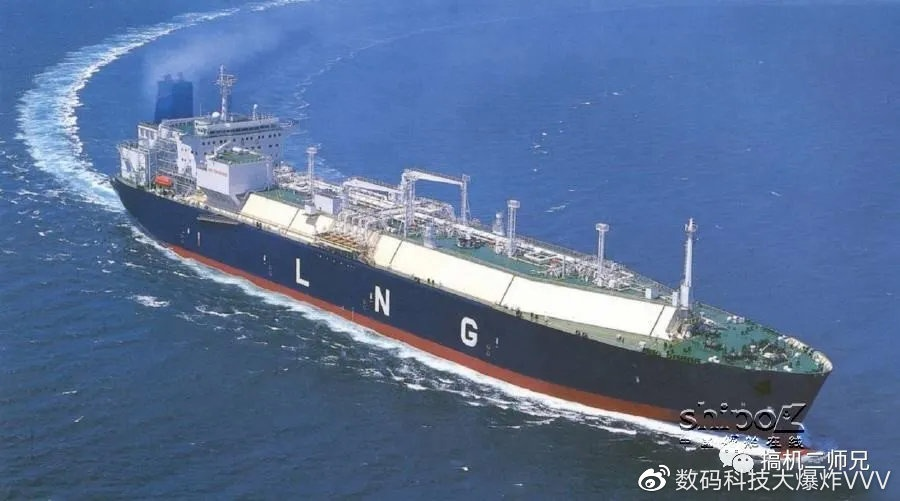Cargoship: (99, 75, 849, 470)
